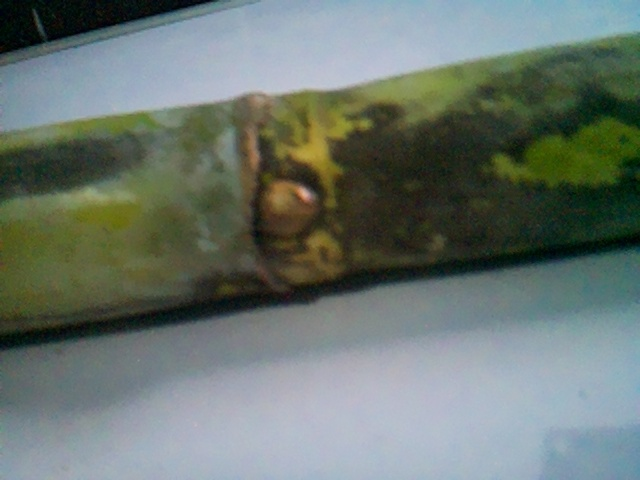Good Sugarcane: (0, 26, 636, 387)
Node: (190, 84, 344, 307)
